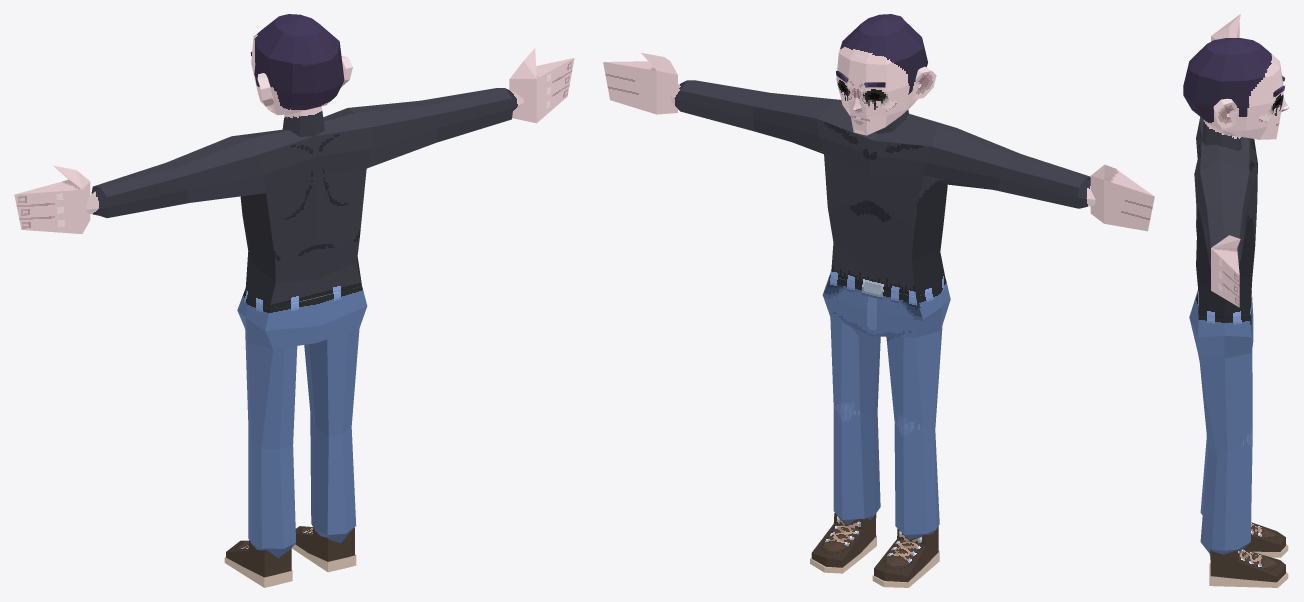
File: BrotherGhost.glb
The picture shows the model from 3 angles, left to right: view 1: azimuth 30°, elevation 25°; view 2: azimuth 150°, elevation 25°; view 3: azimuth 270°, elevation 25°; orthographic projection. The views are drawn at different scales.
Visible parts, largest first — view 1: cuboid_2, cuboid_4, cuboid_0, sphere_9, cuboid_6, cuboid_1, cuboid_7, cuboid_8, cuboid_3, cuboid_5; view 2: cuboid_2, cuboid_4, cuboid_0, sphere_9, cuboid_6, cuboid_7, cuboid_1, cuboid_8, cuboid_3; view 3: cuboid_0, cuboid_2, sphere_9, cuboid_6, cuboid_3, cuboid_7, cuboid_8, cuboid_5, REar_11, cuboid_1, cuboid_4.
Part boxes in pixels (box(x1,y1,x2,y2)): cuboid_2: box(86, 88, 524, 308); cuboid_4: box(245, 329, 297, 558); cuboid_0: box(304, 328, 359, 542); sphere_9: box(251, 14, 344, 115); cuboid_6: box(237, 286, 367, 349); cuboid_1: box(14, 165, 90, 233); cuboid_7: box(509, 48, 574, 123); cuboid_8: box(224, 540, 292, 587); cuboid_3: box(292, 526, 356, 572); cuboid_5: box(282, 106, 324, 136); cuboid_2: box(670, 80, 1095, 296); cuboid_4: box(886, 326, 942, 539); cuboid_0: box(830, 317, 880, 524); sphere_9: box(836, 14, 927, 135); cuboid_6: box(822, 270, 950, 337); cuboid_7: box(603, 53, 677, 114); cuboid_1: box(1090, 164, 1154, 231); cuboid_8: box(872, 526, 939, 587); cuboid_3: box(810, 513, 876, 573); cuboid_0: box(1198, 352, 1252, 554); cuboid_2: box(1194, 117, 1257, 318); sphere_9: box(1183, 38, 1283, 139); cuboid_6: box(1189, 290, 1253, 358); cuboid_3: box(1209, 549, 1288, 587); cuboid_7: box(1211, 235, 1240, 307); cuboid_8: box(1209, 522, 1288, 557); cuboid_5: box(1201, 120, 1241, 150); REar_11: box(1213, 98, 1237, 128); cuboid_1: box(1211, 14, 1240, 41); cuboid_4: box(1200, 350, 1252, 514).
Size of the model in its own units: 4.46 by 4.18 by 0.7688.
Materials: 4 (4 with a texture image).
